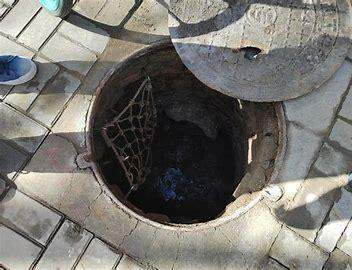wellcover: (80, 0, 351, 228)
